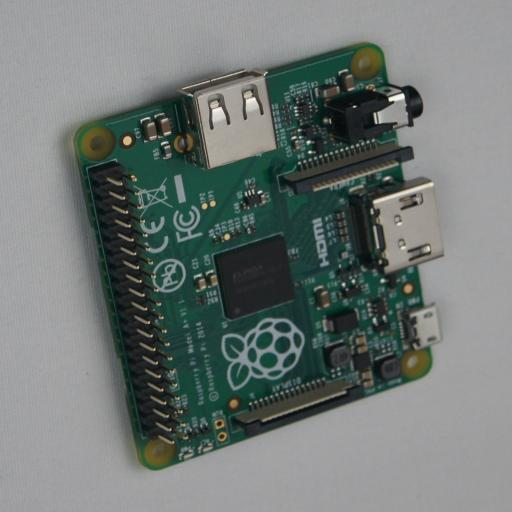Raspberry Pi A-: (68, 42, 443, 470)
